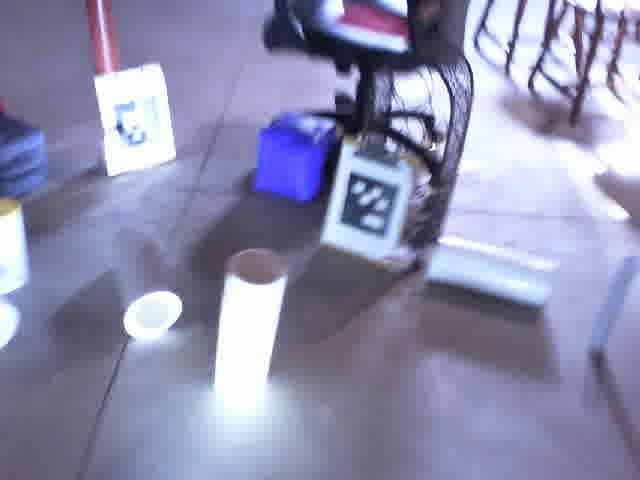coral: (209, 242, 291, 409), (424, 227, 566, 311), (99, 219, 188, 343)
